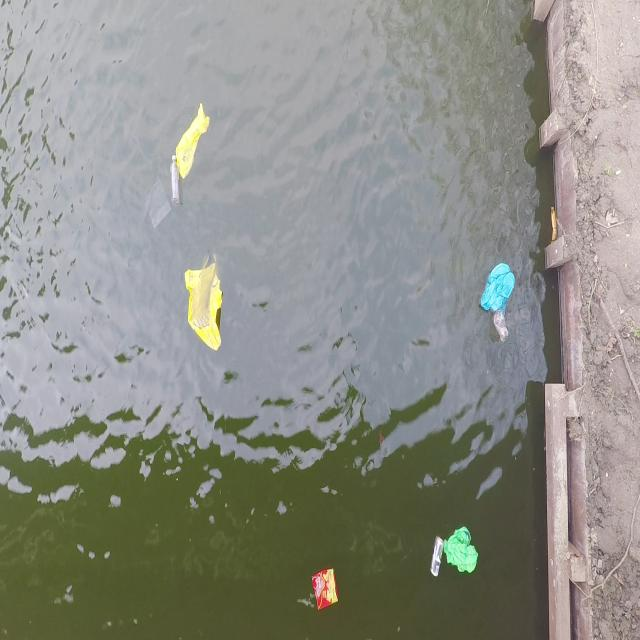Autre plastique: (178, 102, 211, 174), (310, 569, 340, 616)
Bouteille plastique: (168, 153, 180, 206), (492, 311, 509, 342)
Non plastique: (426, 535, 444, 577)
